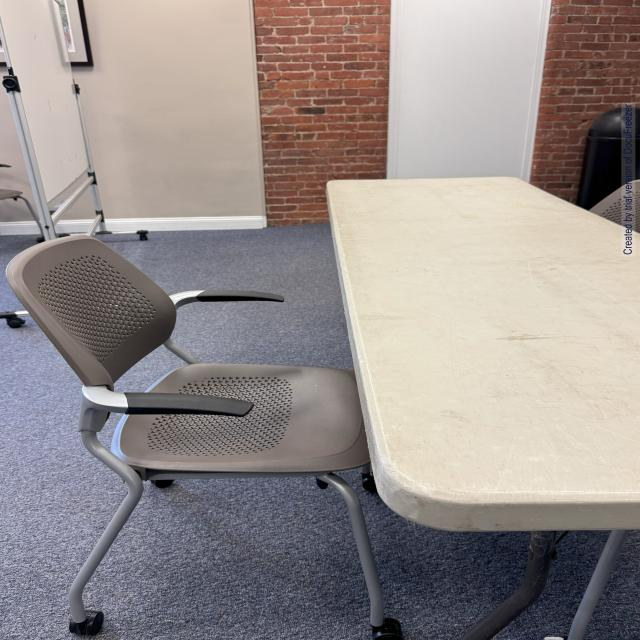Table: (320, 174, 640, 640)
chair: (8, 233, 397, 640)
